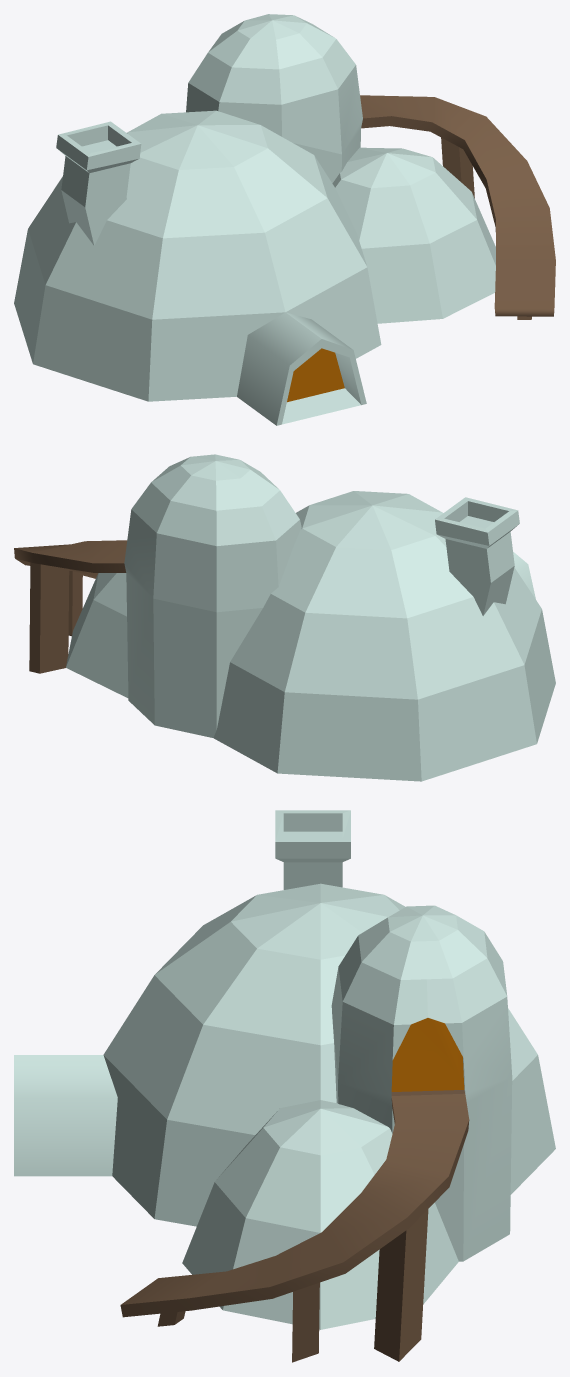
Rendered from igloo_3.fbx.
The picture shows the model from 3 angles, top to bottom: view 1: azimuth 30°, elevation 25°; view 2: azimuth 150°, elevation 25°; view 3: azimuth 270°, elevation 25°; orthographic projection. The views are drawn at different scales.
Visible parts, largest first — view 1: pSphere1, pSphere3, pSphere2, pCylinder1, pCube2; view 2: pSphere1, pSphere3, pCube2, pSphere2; view 3: pSphere3, pSphere1, pSphere2, pCylinder1, pCube2.
Boxes of the visible parts, left/top/right/bottom form: pSphere1: left=14, top=110, right=381, bottom=401; pSphere3: left=186, top=14, right=555, bottom=319; pSphere2: left=332, top=147, right=495, bottom=323; pCylinder1: left=237, top=312, right=366, bottom=425; pCube2: left=56, top=121, right=141, bottom=245; pSphere1: left=213, top=491, right=555, bottom=781; pSphere3: left=14, top=454, right=301, bottom=737; pCube2: left=435, top=497, right=519, bottom=615; pSphere2: left=66, top=573, right=128, bottom=697; pSphere3: left=120, top=905, right=512, bottom=1362; pSphere1: left=103, top=883, right=555, bottom=1226; pSphere2: left=182, top=1100, right=458, bottom=1329; pCylinder1: left=14, top=1055, right=117, bottom=1176; pCube2: left=275, top=810, right=350, bottom=889.
Size of the model in its own units: 3.06 by 1.54 by 2.3.
